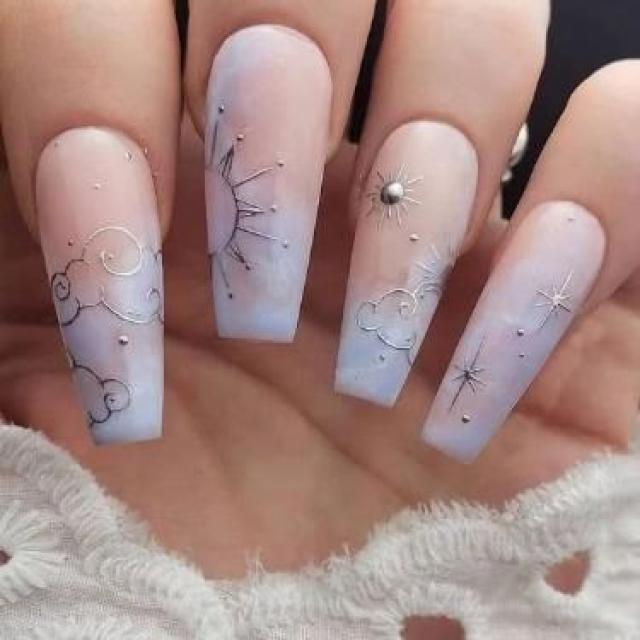Fingernail: (422, 200, 607, 465), (332, 120, 479, 410), (203, 23, 332, 344), (34, 126, 164, 444)
